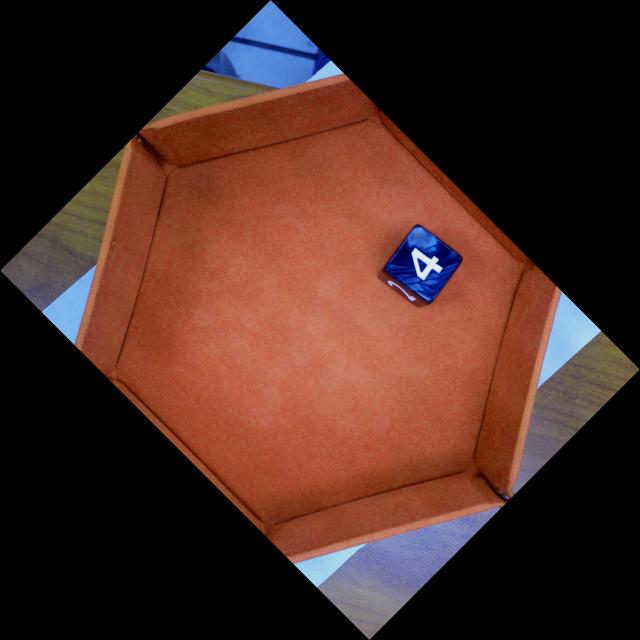dice: (383, 223, 463, 304)
